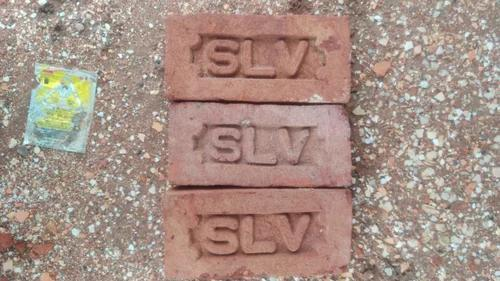brick: (163, 188, 352, 281), (162, 15, 353, 102), (168, 99, 352, 187)
